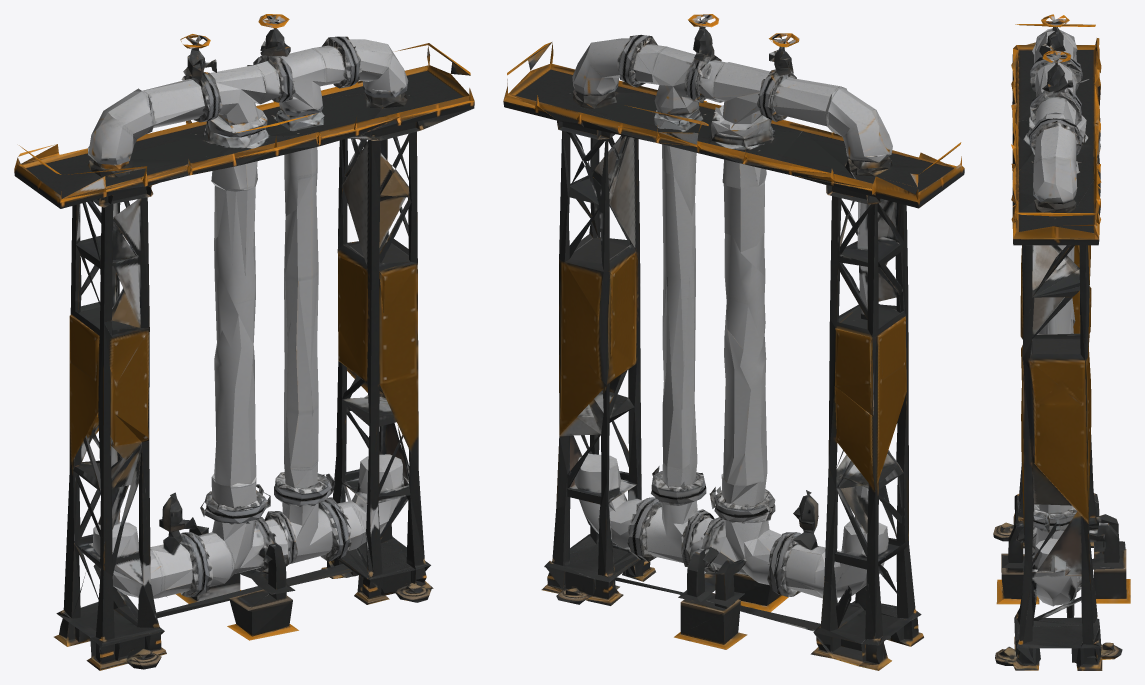
Rendered from volcano-pipe.glb.
3 renders of one model, left to right at view 1: azimuth 30°, elevation 25°; view 2: azimuth 150°, elevation 25°; view 3: azimuth 270°, elevation 25°, orthographic. The views are drawn at different scales.
Bounding box in the file's own units: 1.41 × 1.9 × 0.4296.
1 material, 1 textured.
